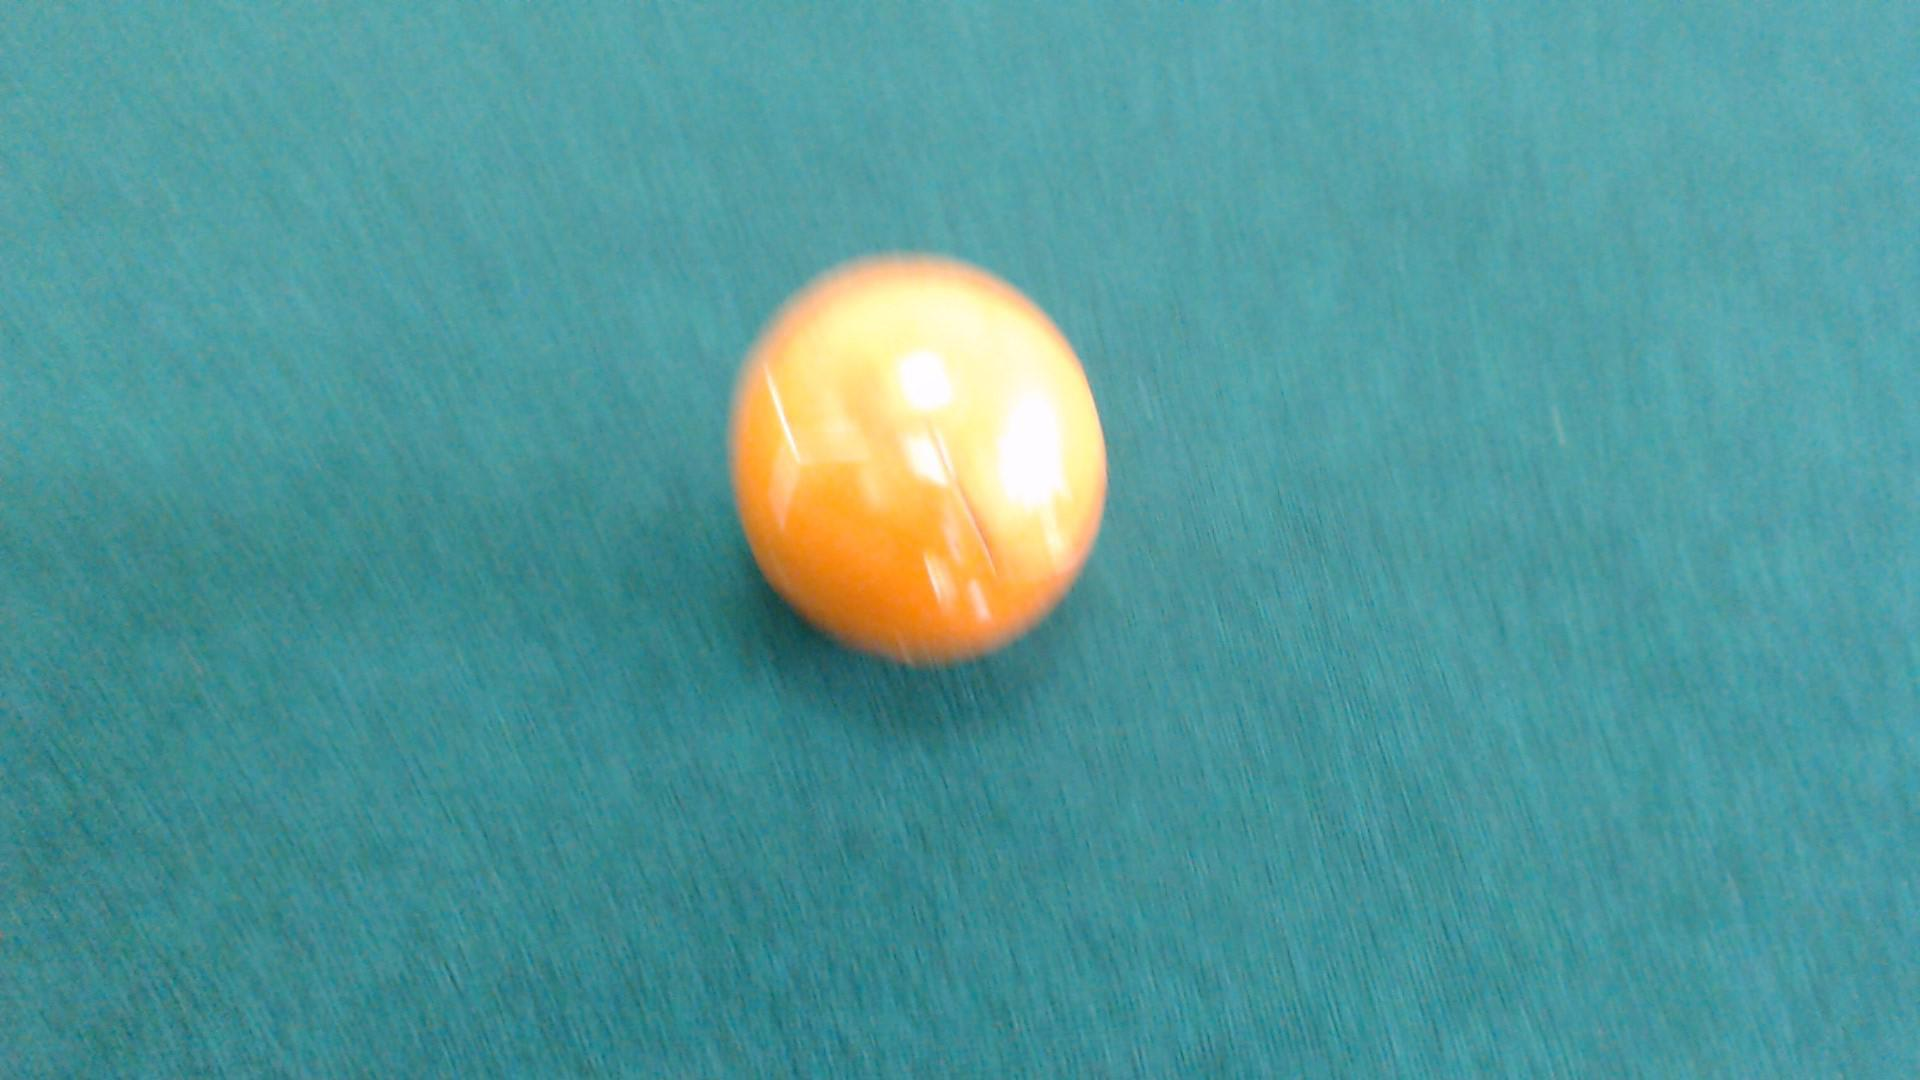bola: (711, 249, 1109, 688)
